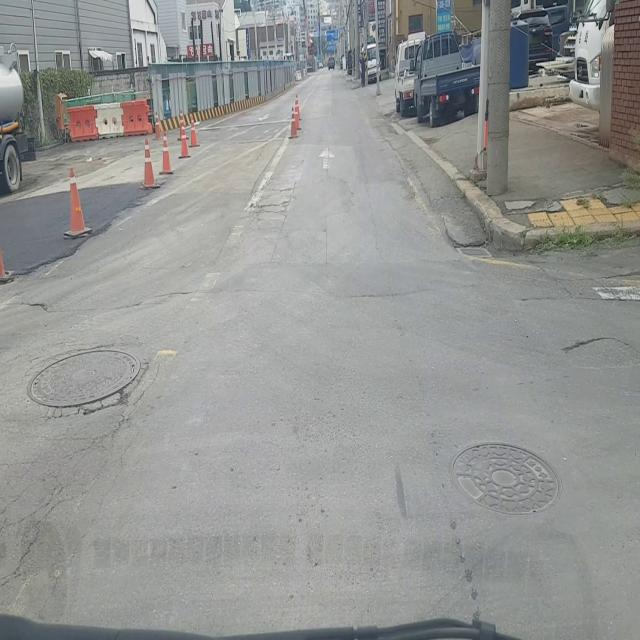Pothole: (26, 348, 149, 420)
